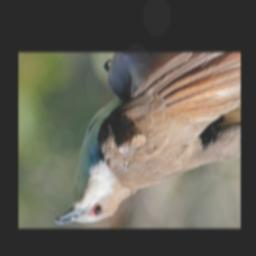Cuckoo: (54, 52, 241, 224)
